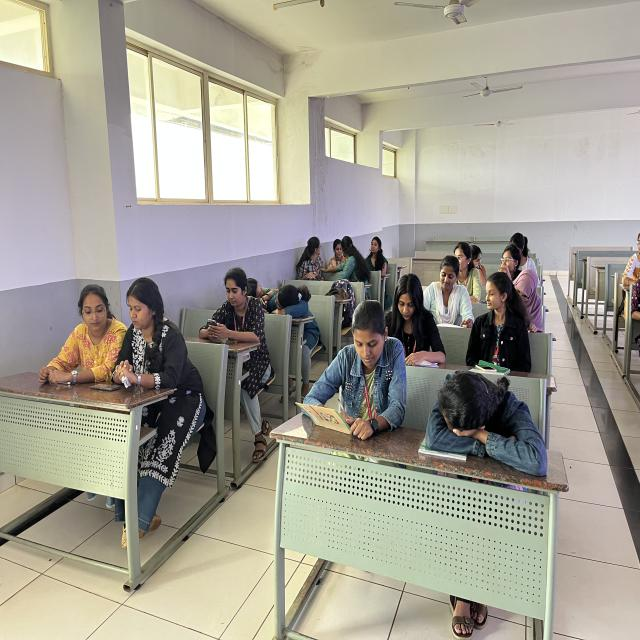Reading: (388, 279, 442, 373)
Sleeping: (427, 350, 547, 471), (249, 273, 330, 371)
Using Phone: (193, 254, 261, 407)
Writing: (322, 302, 414, 456)
